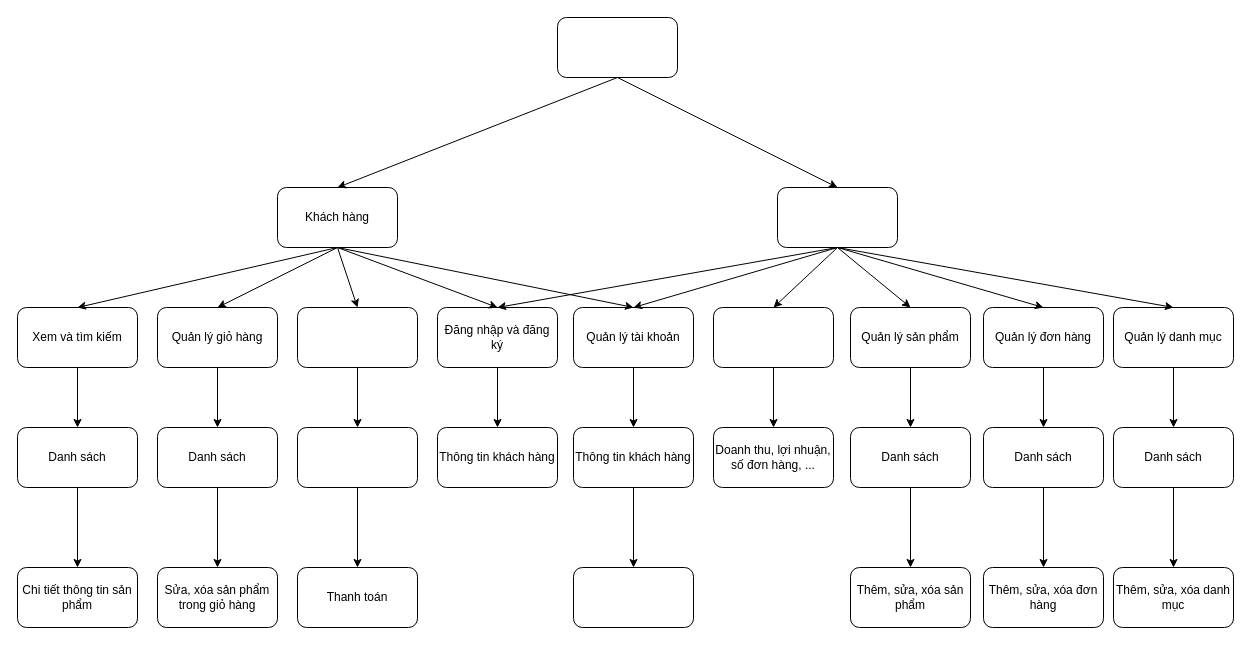
This 1251x645 diagram has some shape labels left out. Each missing label, with the box of its shape:
Quản lý: (776, 186, 898, 248)
Thêm, sửa , xóa thông tin, khách hàng: (572, 566, 694, 628)
Thống kê hoạt động: (712, 306, 834, 368)
Website: (556, 16, 678, 78)
Đơn hàng, thông tin khách hàng: (296, 426, 418, 488)
Đặt hàng: (296, 306, 418, 368)
